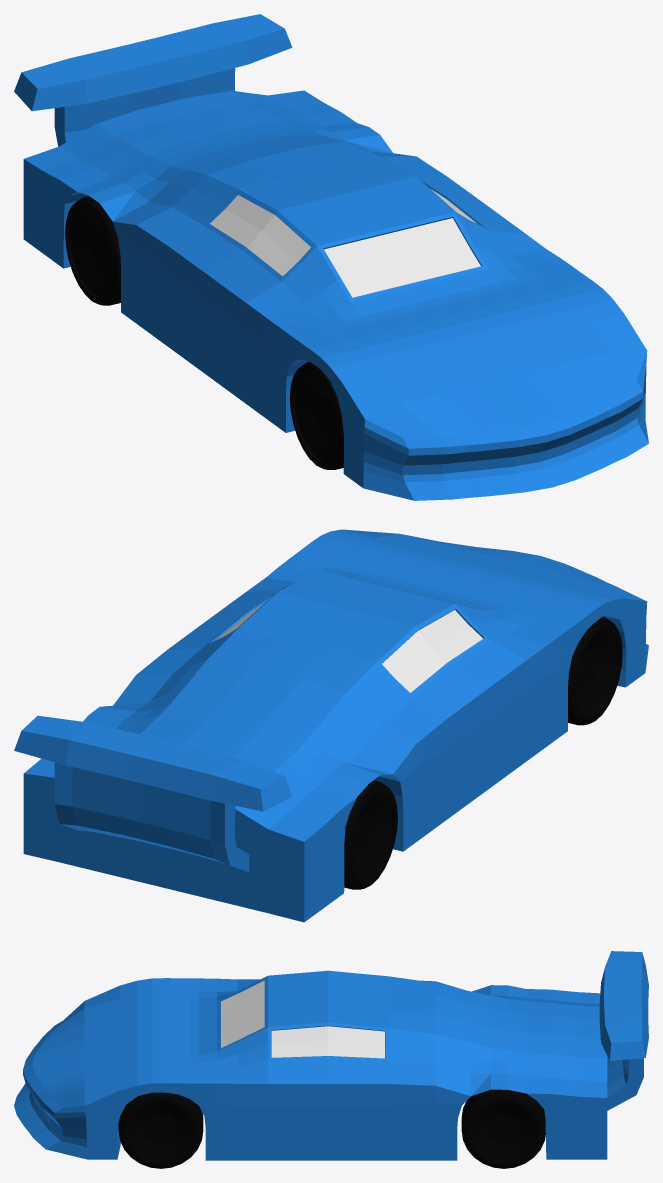
File: car.fbx
The picture shows the model from 3 angles, top to bottom: view 1: azimuth 30°, elevation 25°; view 2: azimuth 150°, elevation 25°; view 3: azimuth 270°, elevation 25°; orthographic projection. The views are drawn at different scales.
Parts seen in each view (by area): view 1: Cube, Cube.004, Cube.002; view 2: Cube, Cube.004, Cube.002; view 3: Cube, Cube.003, Cube.001.
Part boxes in pixels (<box>): Cube: <box>14,14,648,500</box>; Cube.004: <box>65,196,120,305</box>; Cube.002: <box>289,362,343,469</box>; Cube: <box>14,529,648,922</box>; Cube.004: <box>344,780,397,889</box>; Cube.002: <box>568,616,622,725</box>; Cube: <box>14,951,648,1160</box>; Cube.003: <box>461,1089,545,1168</box>; Cube.001: <box>118,1092,203,1168</box>.
Size of the model in its own units: 331 by 181 by 841.
